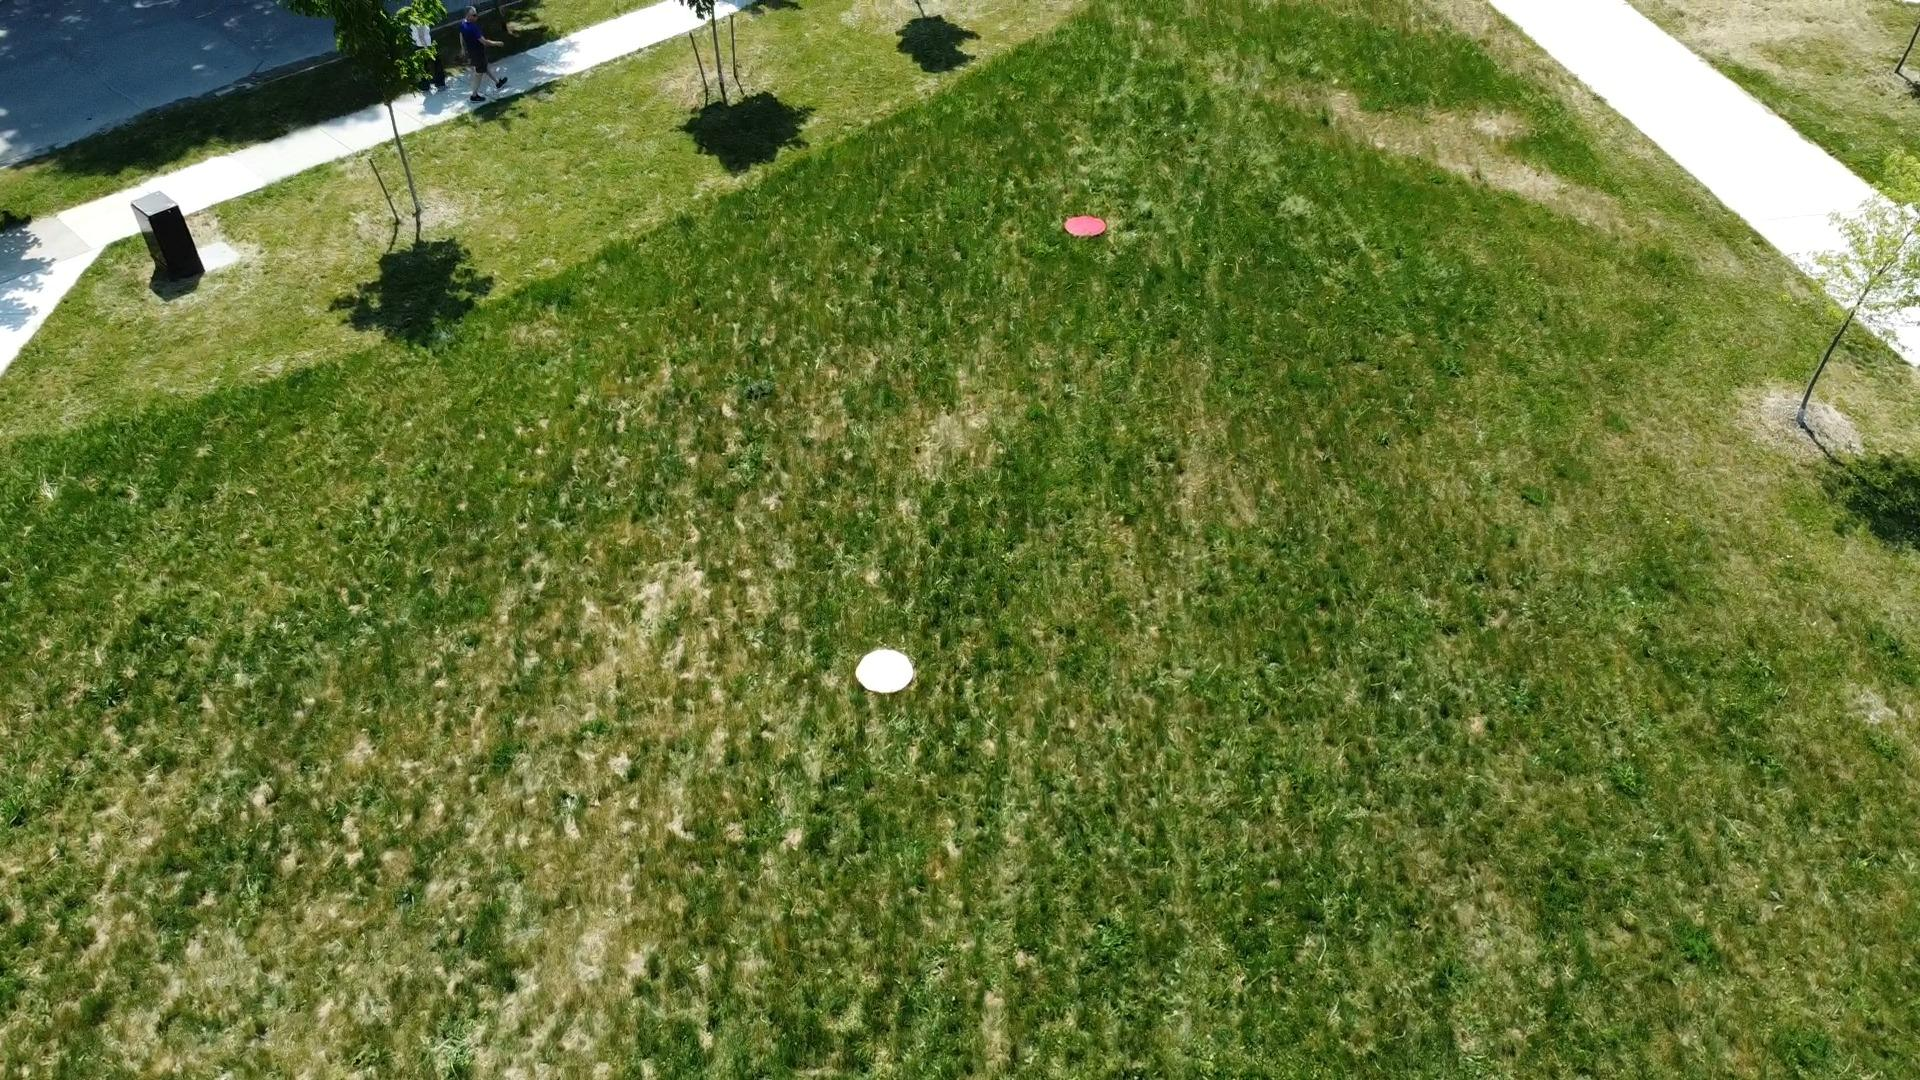Red: (1062, 214, 1109, 237)
Unknown: (855, 646, 915, 695)
